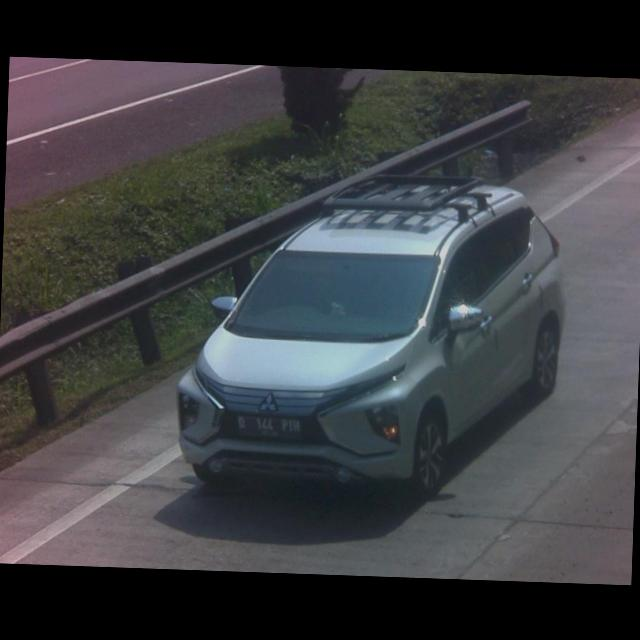plate: (229, 411, 307, 439)
